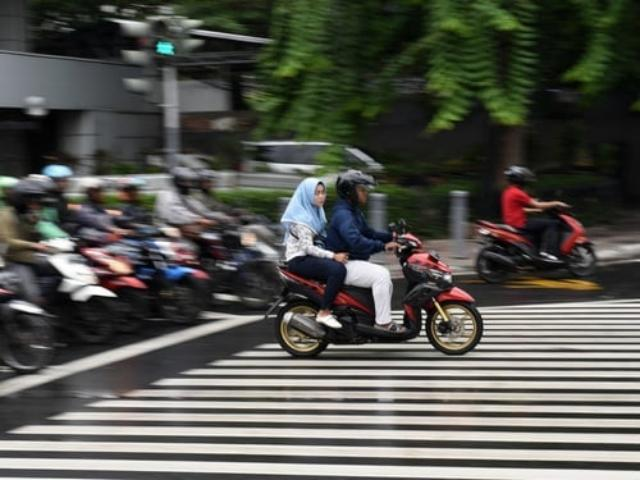helm: (337, 170, 379, 211), (503, 165, 541, 192)
motor: (276, 217, 483, 363), (474, 198, 605, 285)
non-helm: (297, 177, 332, 213)
